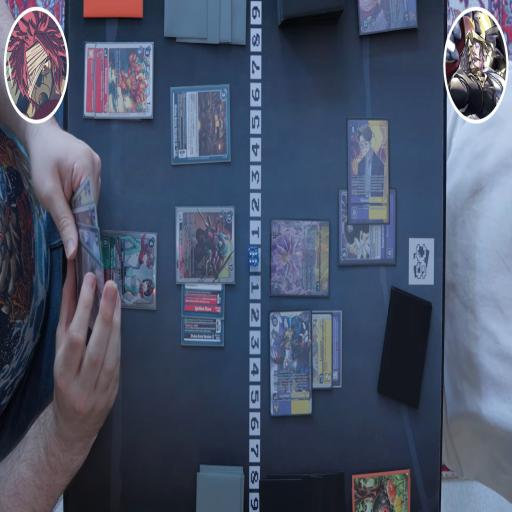card: (270, 220, 330, 299), (100, 232, 159, 310), (176, 207, 235, 285), (171, 86, 231, 162), (339, 188, 397, 264), (271, 311, 312, 415), (96, 42, 153, 116), (348, 120, 389, 220), (73, 239, 104, 329), (358, 0, 417, 39), (310, 313, 334, 389), (182, 281, 224, 315), (70, 224, 102, 266), (182, 314, 224, 343), (67, 172, 95, 208), (330, 311, 342, 389), (70, 207, 103, 231), (86, 42, 95, 115)
